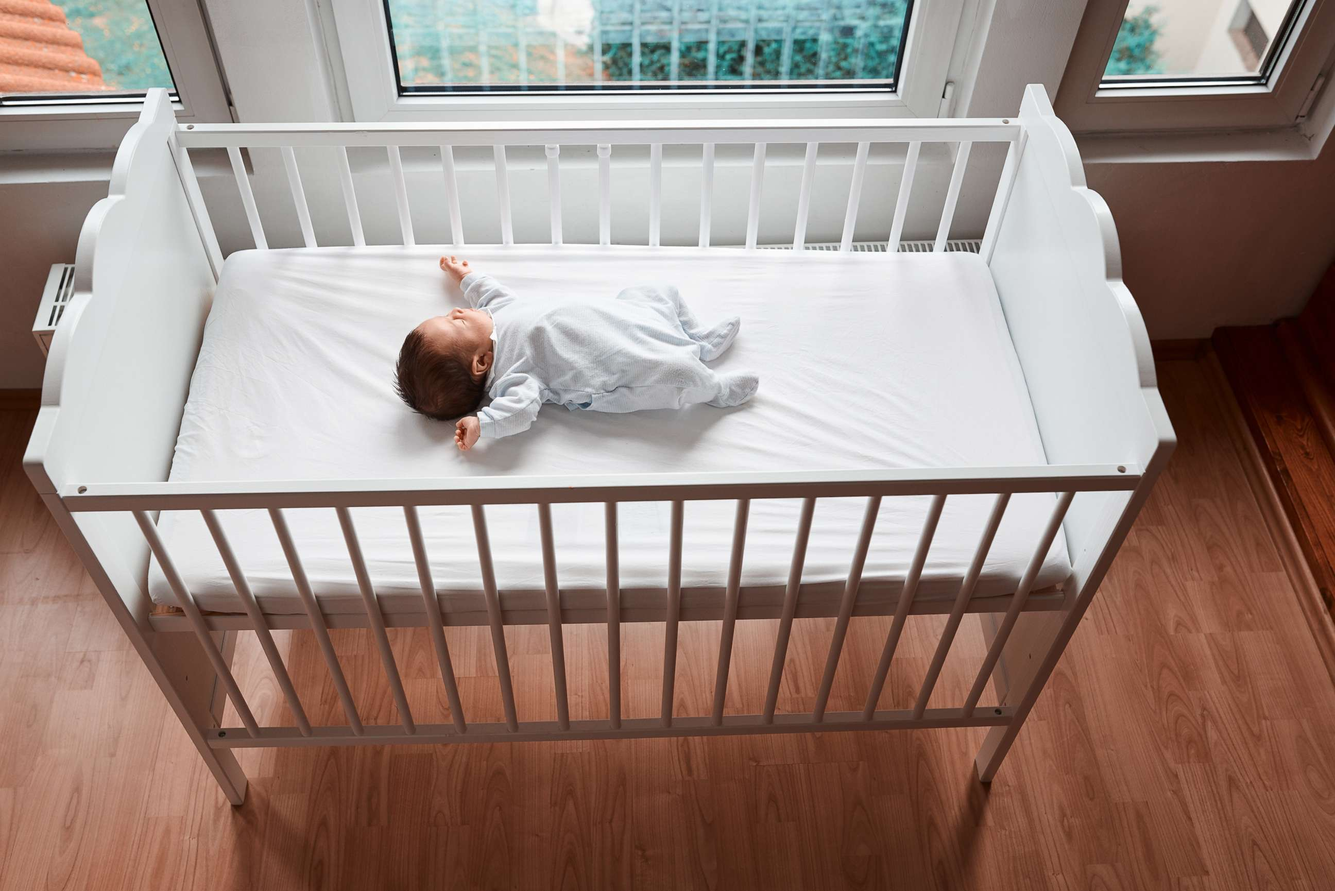baby: (397, 256, 758, 450)
crib: (24, 87, 1174, 802)
